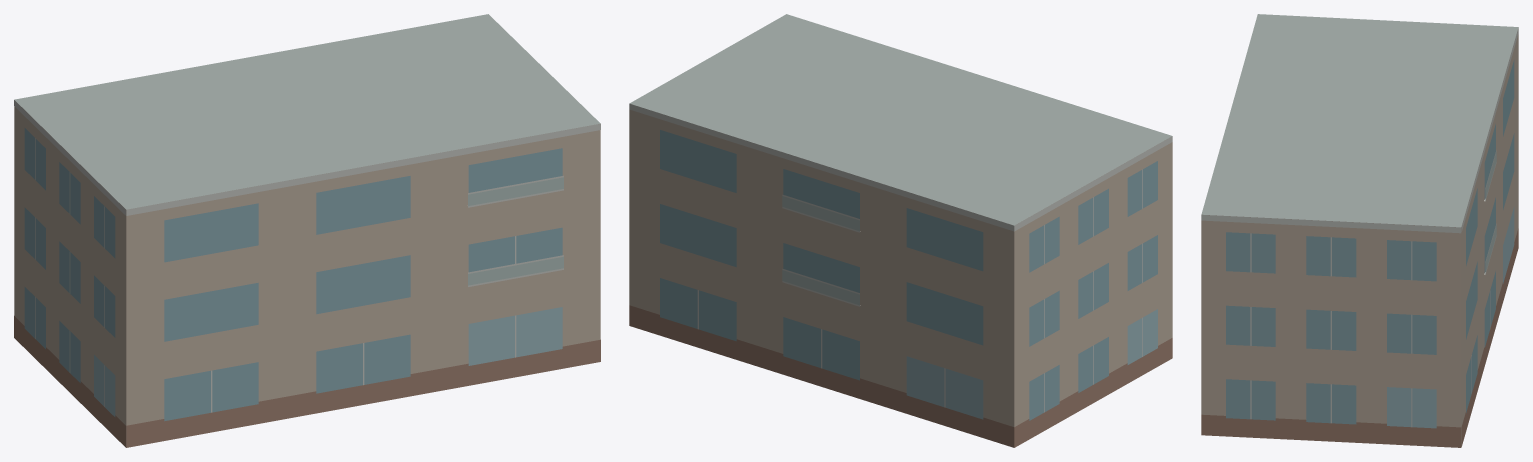
File: survey-upis-33000885.glb
3 renders of one model, left to right at view 1: azimuth 30°, elevation 25°; view 2: azimuth 150°, elevation 25°; view 3: azimuth 270°, elevation 25°, orthographic. The views are drawn at different scales.
Visible parts, largest first — view 1: survey-upis-33000885.tmp; view 2: survey-upis-33000885.tmp; view 3: survey-upis-33000885.tmp.
Part boxes in pixels (x1,y1,x2,y2): survey-upis-33000885.tmp: [14, 14, 600, 447]; survey-upis-33000885.tmp: [629, 14, 1172, 447]; survey-upis-33000885.tmp: [1201, 14, 1518, 447].
Size of the model in its own units: 19 by 9.15 by 11.94.
